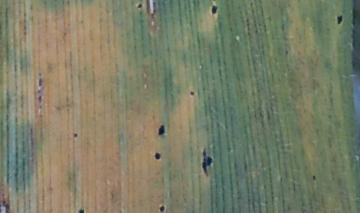tarspot: (202, 147, 214, 176), (156, 123, 165, 136), (209, 4, 219, 15), (336, 13, 343, 25), (153, 150, 162, 159), (36, 93, 43, 104), (310, 173, 318, 181), (135, 2, 143, 9), (38, 77, 43, 87), (188, 89, 195, 96), (72, 131, 79, 138), (160, 204, 165, 213), (77, 208, 86, 213)
